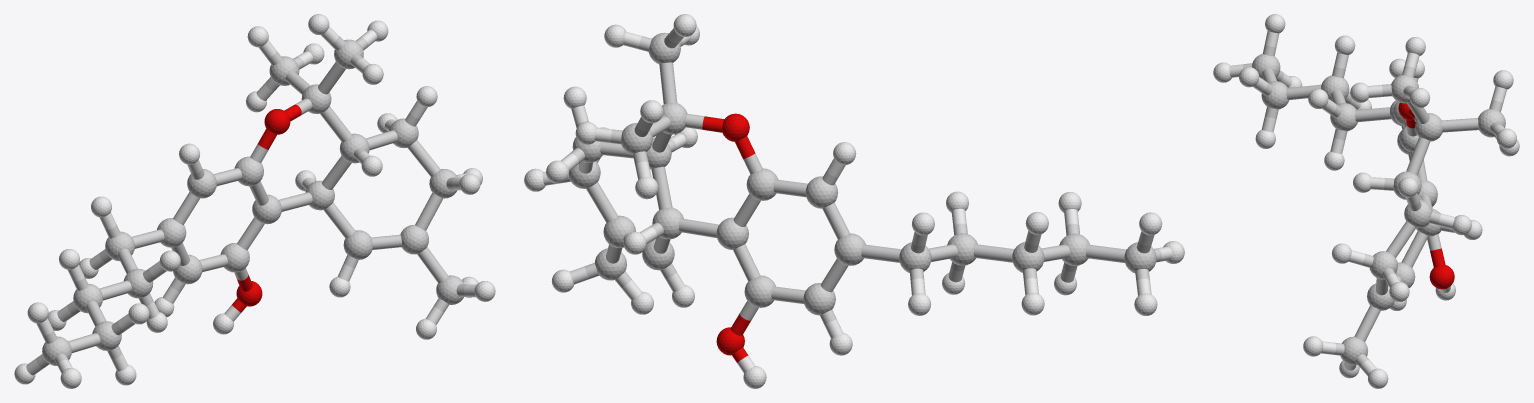
The model's file is thc.fbx.
The picture shows the model from 3 angles, left to right: view 1: azimuth 30°, elevation 25°; view 2: azimuth 150°, elevation 25°; view 3: azimuth 270°, elevation 25°; orthographic projection. The views are drawn at different scales.
Visible parts, largest first — view 1: thc; view 2: thc; view 3: thc.
Boxes of the visible parts, x1,y1,x2,y2 form: thc: (14,14,495,388); thc: (524,14,1184,388); thc: (1213,14,1519,388).
Size of the model in its own units: 14319 by 8308 by 7563.
